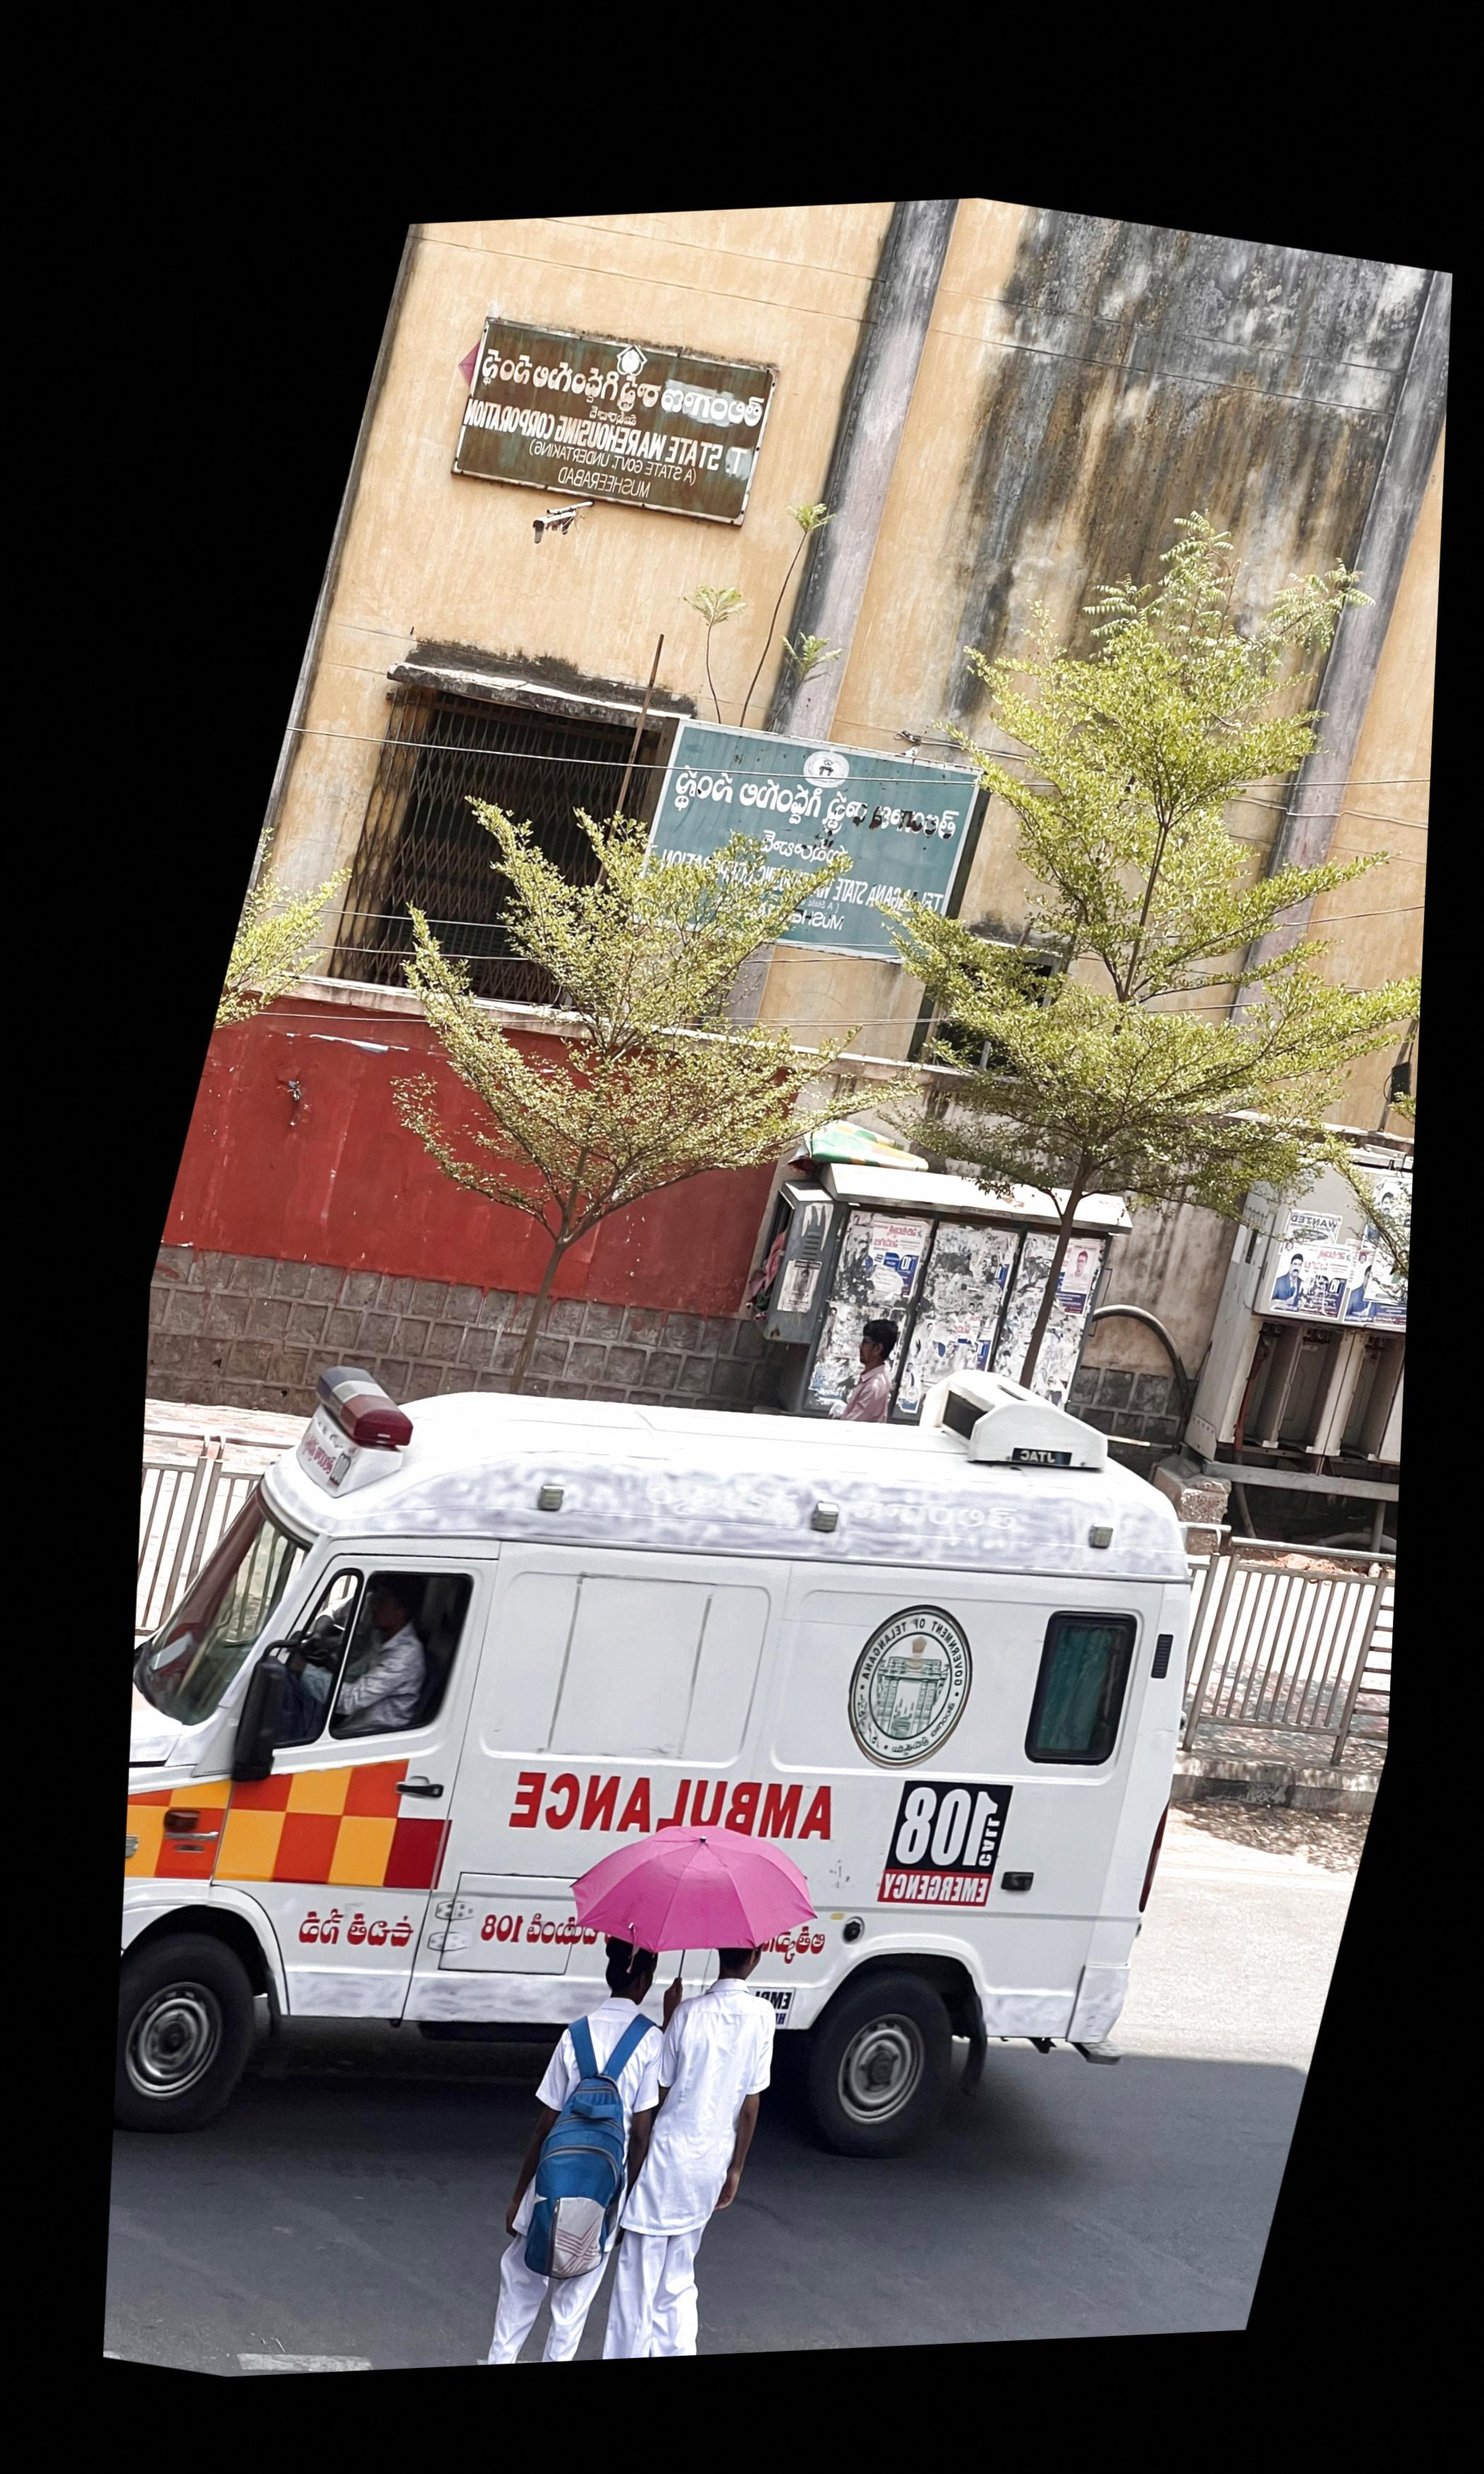ambulance: (115, 1370, 1194, 2161)
